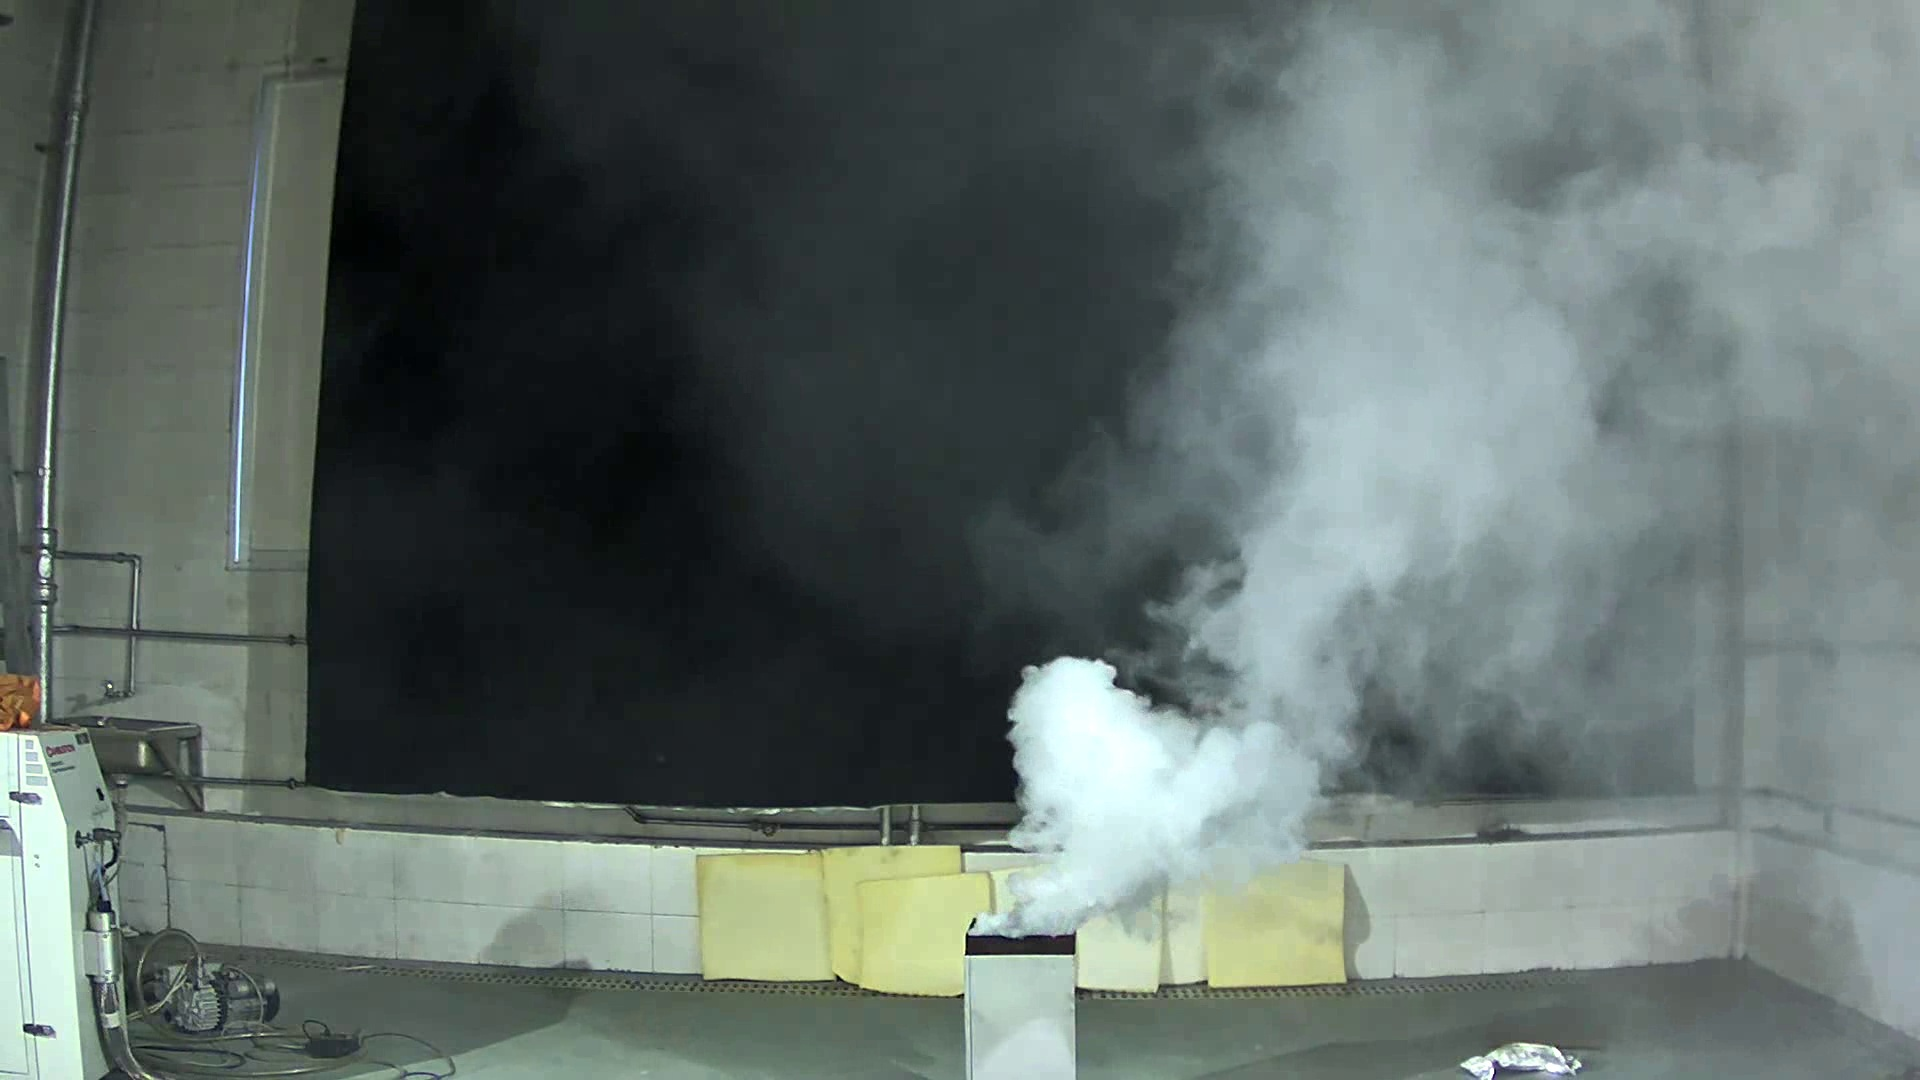smoke: (956, 647, 1344, 967)
